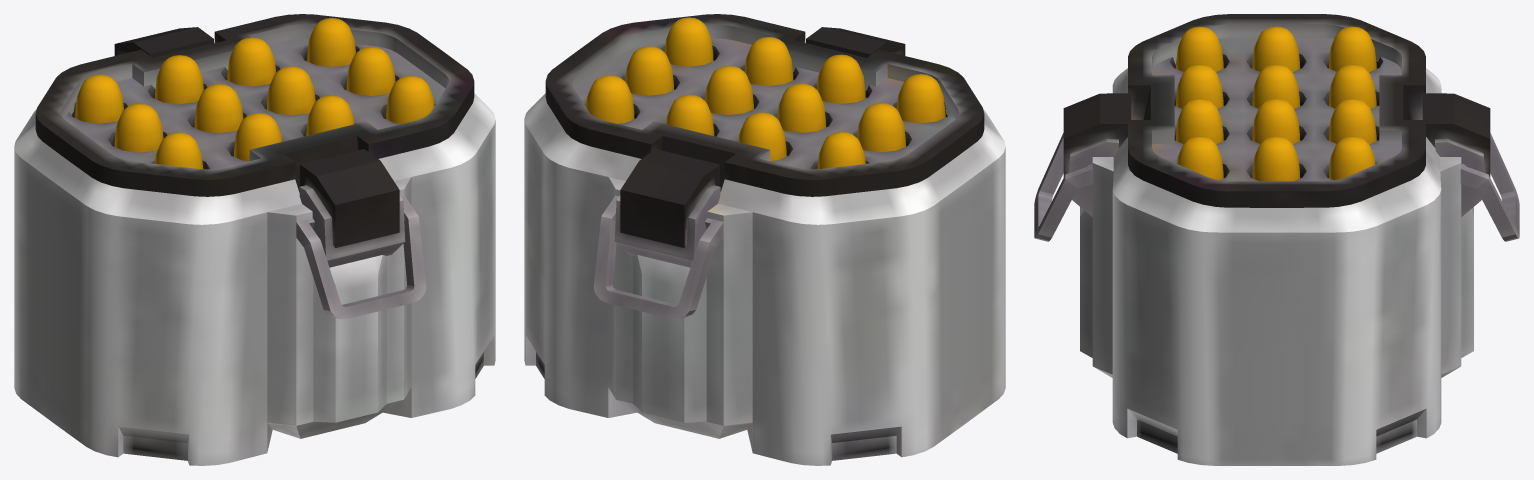
File: Ammo Small.glb
3 views of the same model, side by side, from view 1: azimuth 30°, elevation 25°; view 2: azimuth 150°, elevation 25°; view 3: azimuth 270°, elevation 25° (orthographic). The views are drawn at different scales.
Visible parts, largest first — view 1: Prop_Ammo_Small; view 2: Prop_Ammo_Small; view 3: Prop_Ammo_Small.
Part boxes in pixels (x1,y1,x2,y2): Prop_Ammo_Small: (14,14,495,465); Prop_Ammo_Small: (524,14,1005,465); Prop_Ammo_Small: (1034,14,1519,465).
Size of the model in its own units: 0.4023 by 0.2834 by 0.4338.
1 material, 1 textured.
